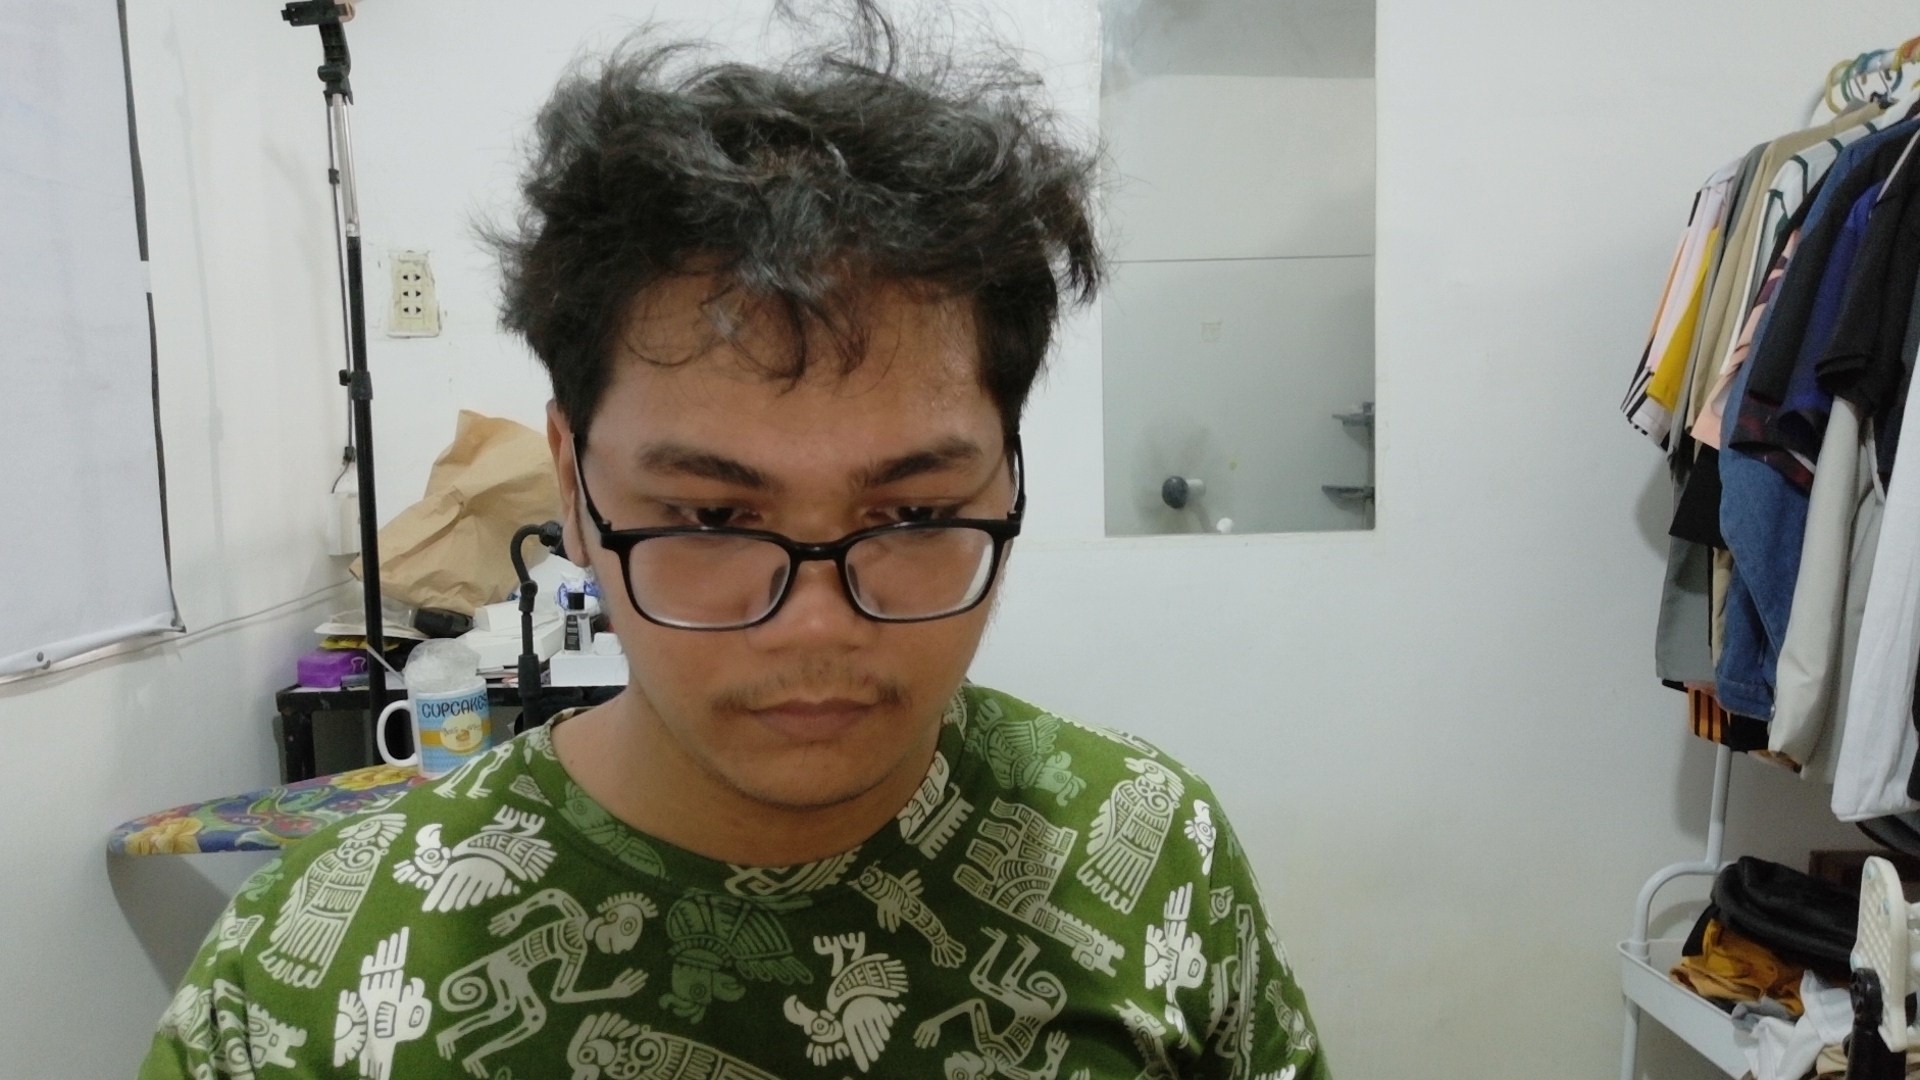face: (476, 18, 1185, 810)
